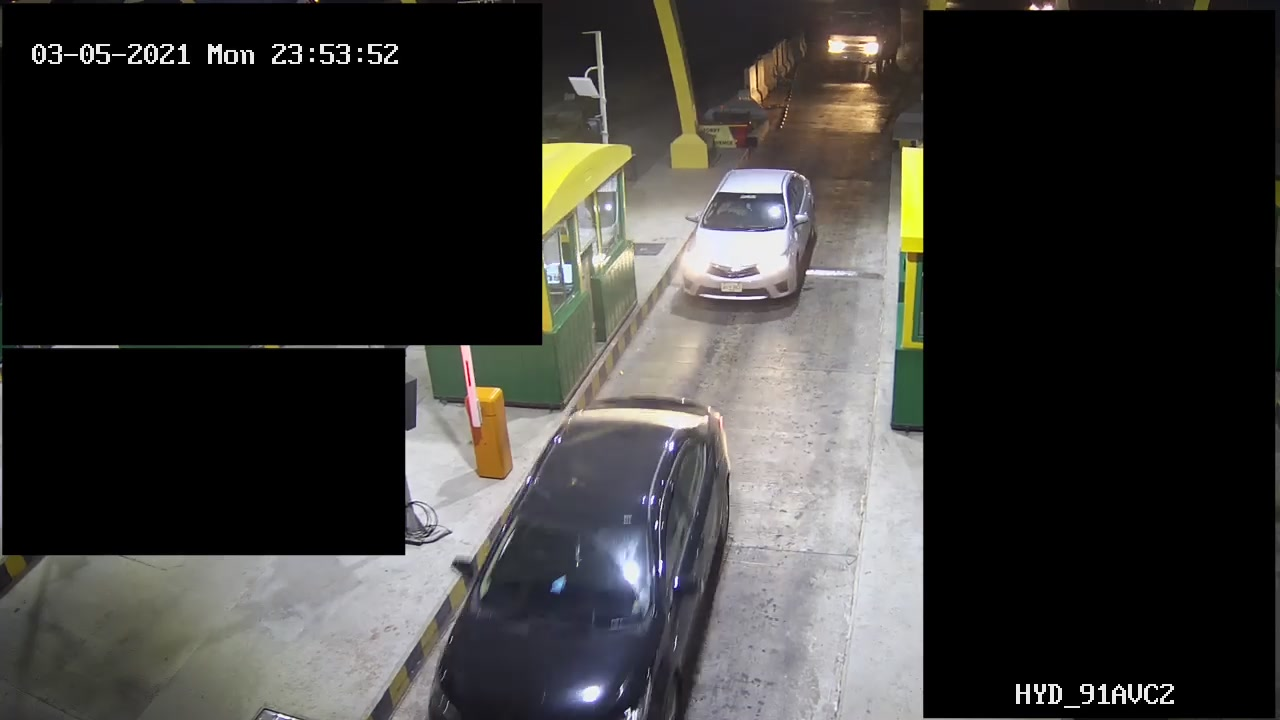F1: (681, 165, 813, 310)
